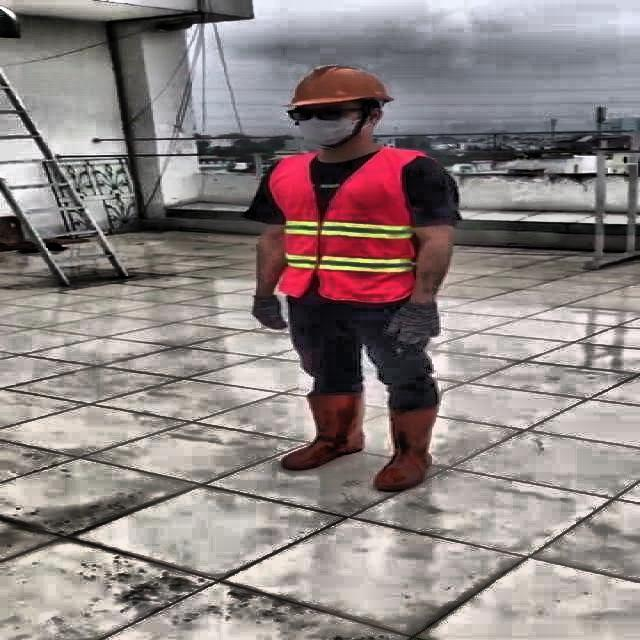safety_helmet: (280, 64, 396, 108)
safety_jacket: (266, 156, 426, 300)
